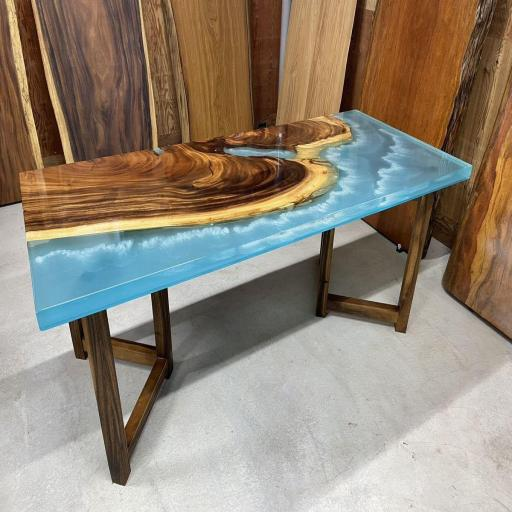table: (14, 107, 474, 425)
